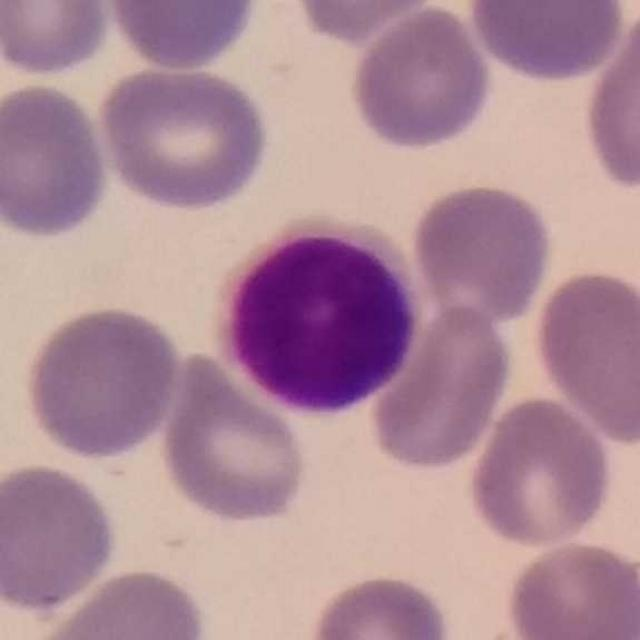Lymphocyte: (210, 213, 428, 423)
RBC: (156, 347, 310, 529), (92, 60, 274, 214), (20, 300, 184, 462), (368, 298, 516, 476), (463, 393, 617, 551), (346, 2, 498, 154), (407, 178, 558, 327), (528, 263, 640, 447), (0, 458, 121, 615), (0, 78, 114, 243), (463, 0, 631, 86), (502, 537, 640, 640), (27, 564, 212, 640), (579, 3, 640, 197), (101, 0, 263, 72), (305, 569, 456, 640), (0, 0, 116, 81), (284, 0, 448, 43)
